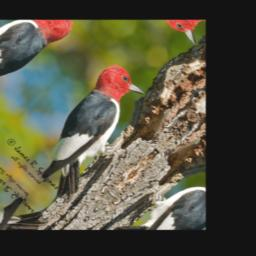Woodpecker: (14, 58, 169, 208)
